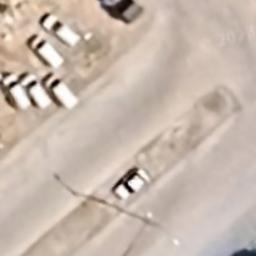sedan: (112, 167, 150, 200)
van: (41, 15, 82, 48), (44, 72, 78, 109), (20, 74, 55, 109), (28, 35, 64, 69), (4, 74, 33, 114)
